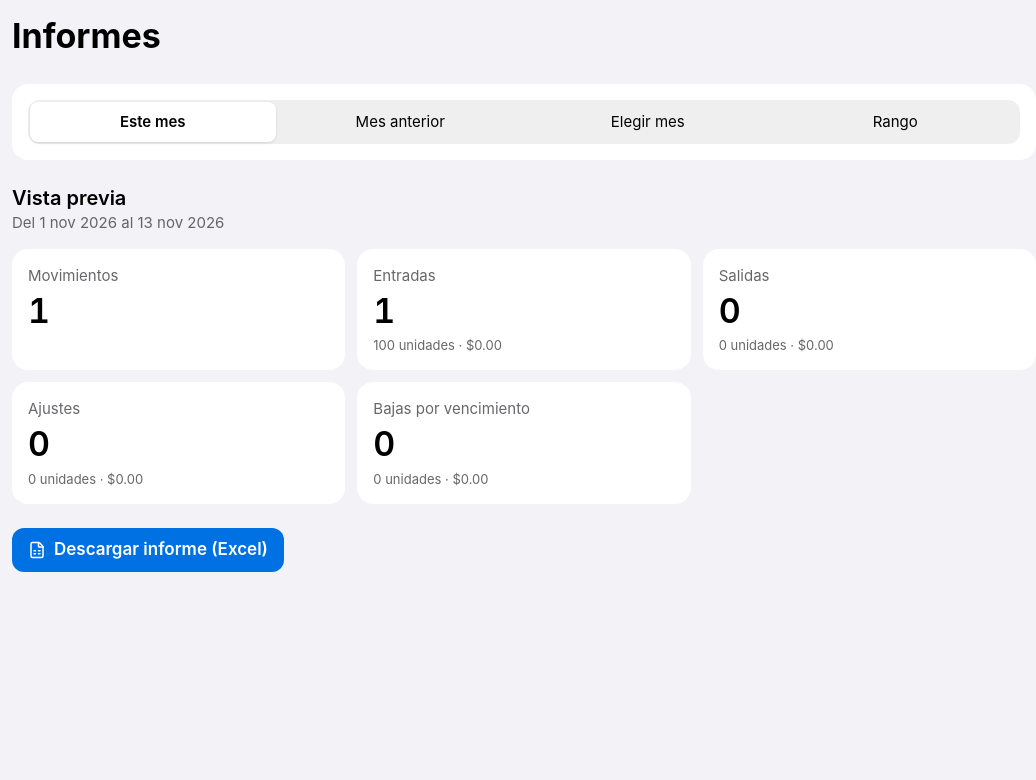
Test: ReportsPage › updates the summary when the period changes
This screenshot has width=1036, height=780.
Expected: the text "Movimientos" is shown, [28,266,118,285]
Expected: the text "Entradas" shows "100 unidades", [373,337,502,353]
What coordinates should you click on to do the following:
click the radio button labelled "Mes anterior"
I would click on:
 (400, 122)
Its box is [278,102,523,142].
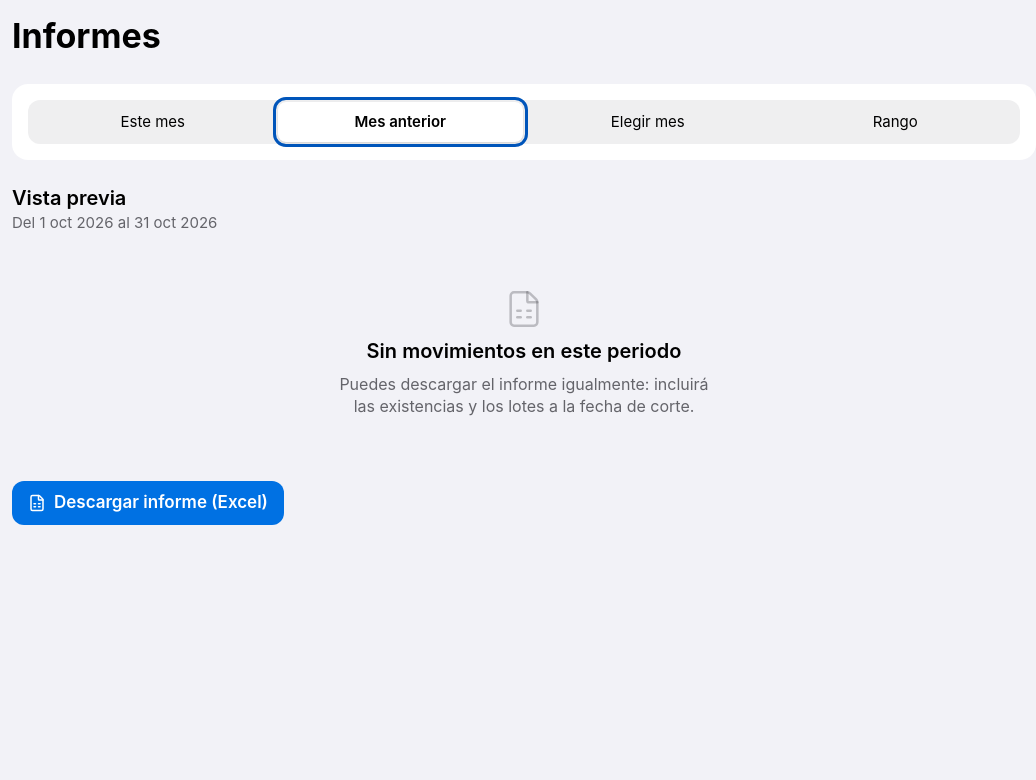
Now the text "Del 1 oct 2026 al 31 oct 2026" is shown, box [12,213,217,232]
Now the heading "Sin movimientos en este periodo" is shown, box [367,337,681,365]
